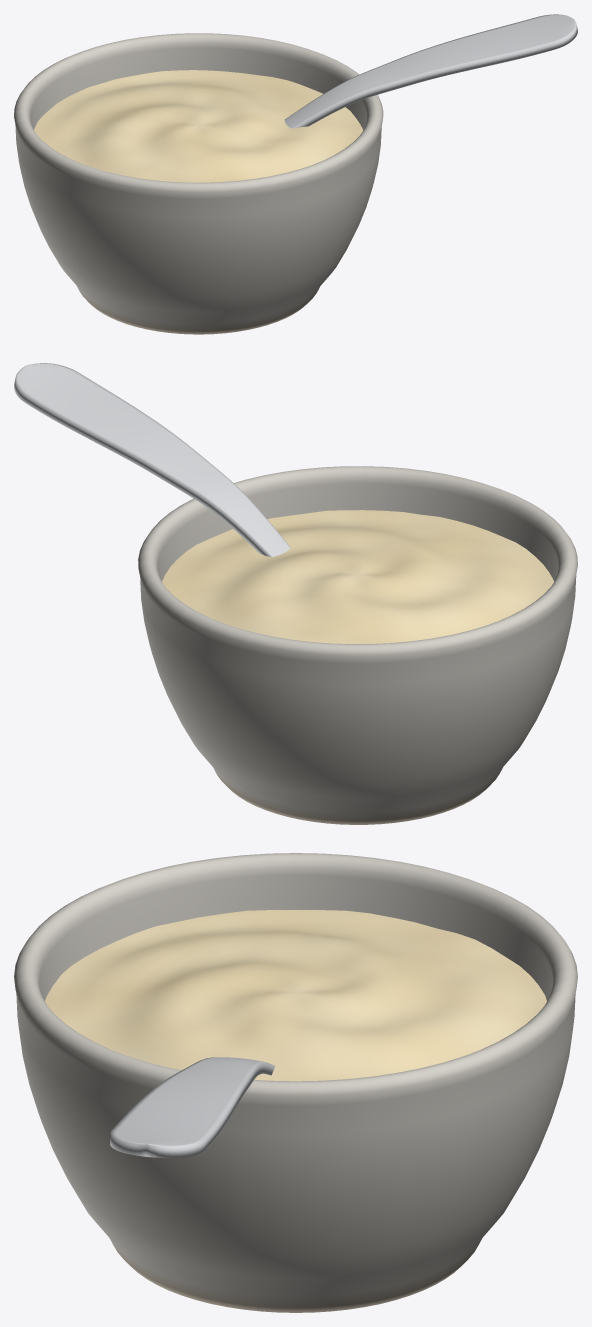
Rendered from pote-creme.glb.
3 renders of one model, top to bottom at view 1: azimuth 30°, elevation 25°; view 2: azimuth 150°, elevation 25°; view 3: azimuth 270°, elevation 25°, orthographic. The views are drawn at different scales.
Parts seen in each view (by area): view 1: pote, colher; view 2: pote, colher; view 3: pote, colher.
Boxes of the visible parts, box(x1,y1,x2,y2) form: pote: box(14, 33, 383, 334); colher: box(284, 14, 577, 128); pote: box(138, 466, 577, 824); colher: box(14, 363, 290, 557); pote: box(14, 853, 577, 1312); colher: box(110, 1057, 275, 1157).
Size of the model in its own units: 0.1758 by 0.0757 by 0.1149.
